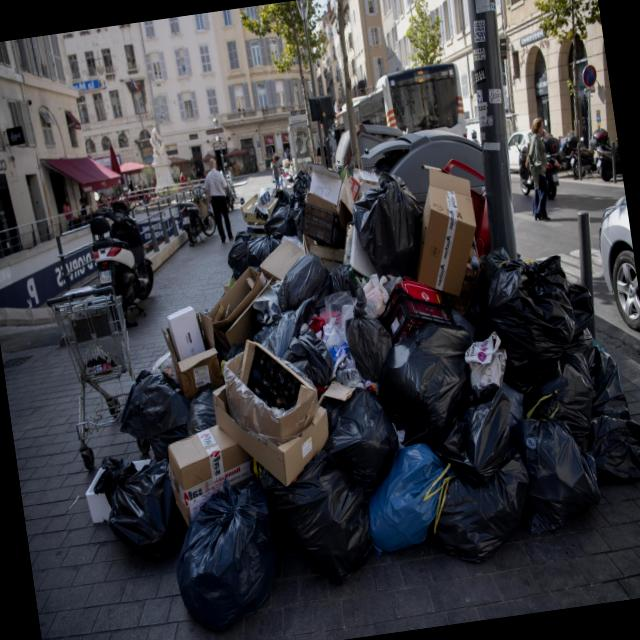garbage: (209, 47, 636, 640)
